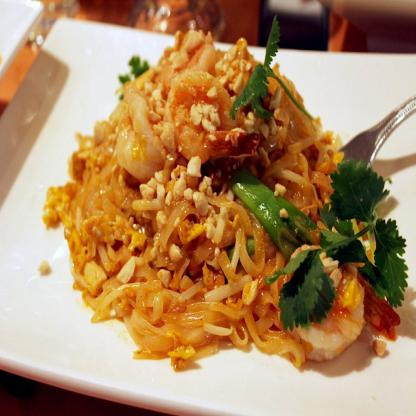Pad Thai: (33, 35, 415, 373)
